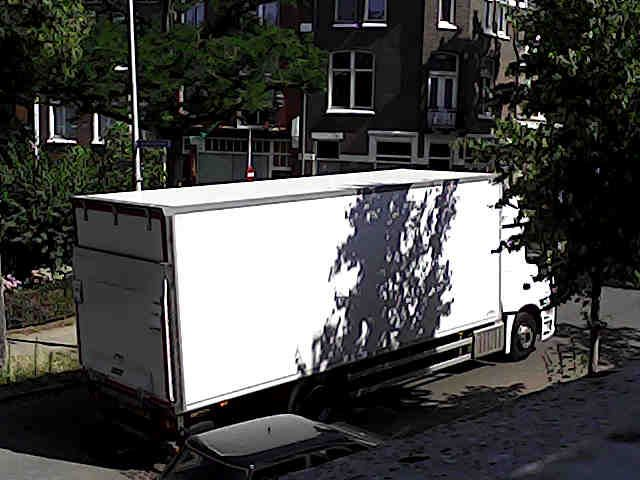suv: (160, 414, 377, 479)
whitevan: (73, 169, 554, 435)
